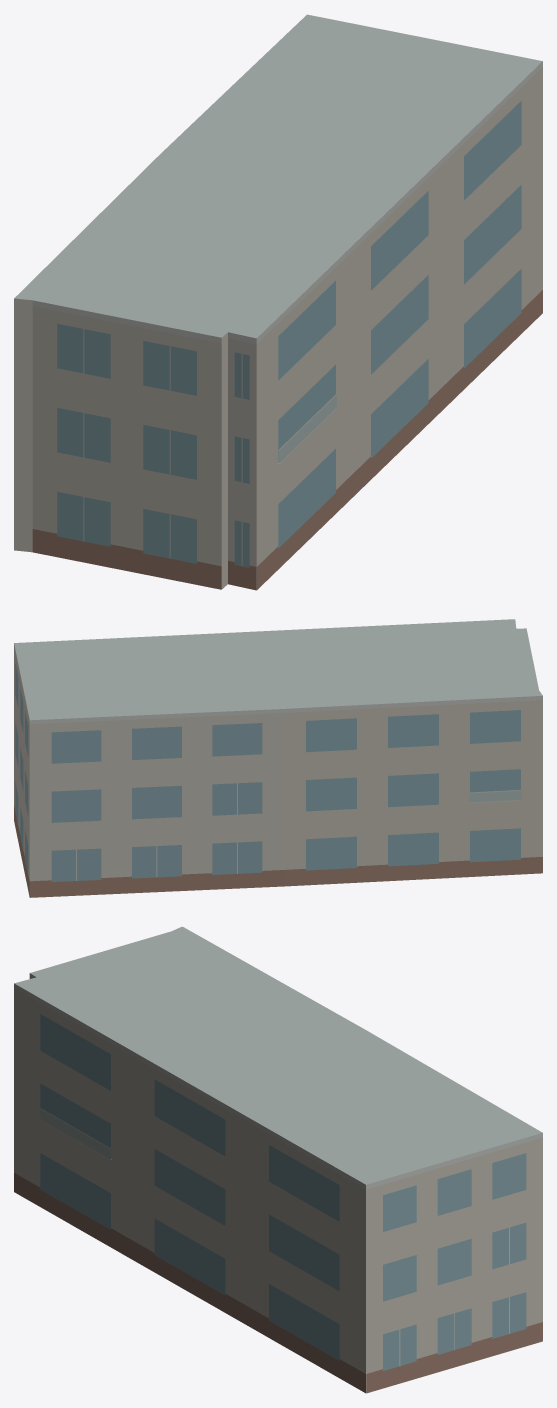
File: survey-upis-32945103.glb
3 renders of one model, top to bottom at view 1: azimuth 30°, elevation 25°; view 2: azimuth 150°, elevation 25°; view 3: azimuth 270°, elevation 25°, orthographic. The views are drawn at different scales.
Parts seen in each view (by area): view 1: survey-upis-32945103.tmp; view 2: survey-upis-32945103.tmp; view 3: survey-upis-32945103.tmp.
Boxes of the visible parts, box(x1,y1,x2,y2) form: survey-upis-32945103.tmp: box(14, 14, 542, 590); survey-upis-32945103.tmp: box(14, 619, 542, 897); survey-upis-32945103.tmp: box(14, 926, 542, 1393).
Size of the model in its own units: 28.3 by 10.65 by 24.47.
